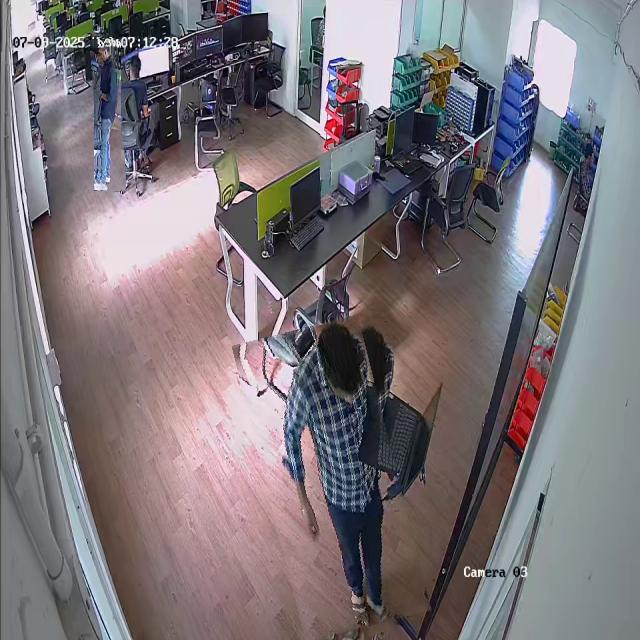person: (249, 320, 414, 636), (92, 39, 123, 191)
